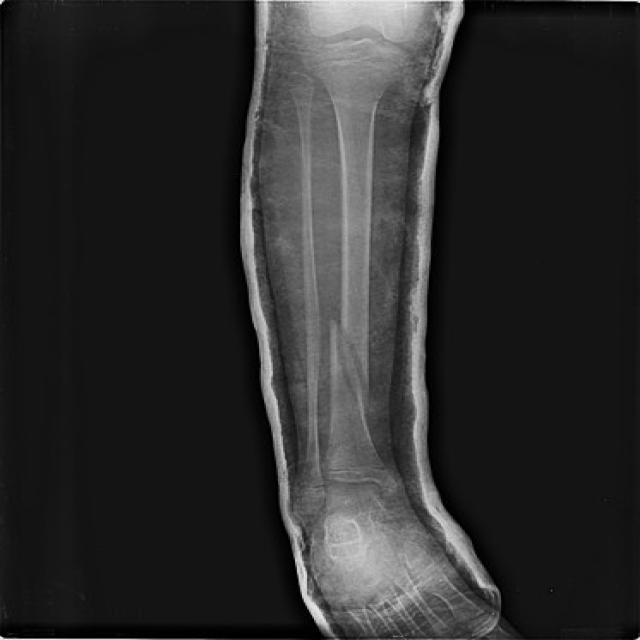bone: (298, 292, 404, 424)
